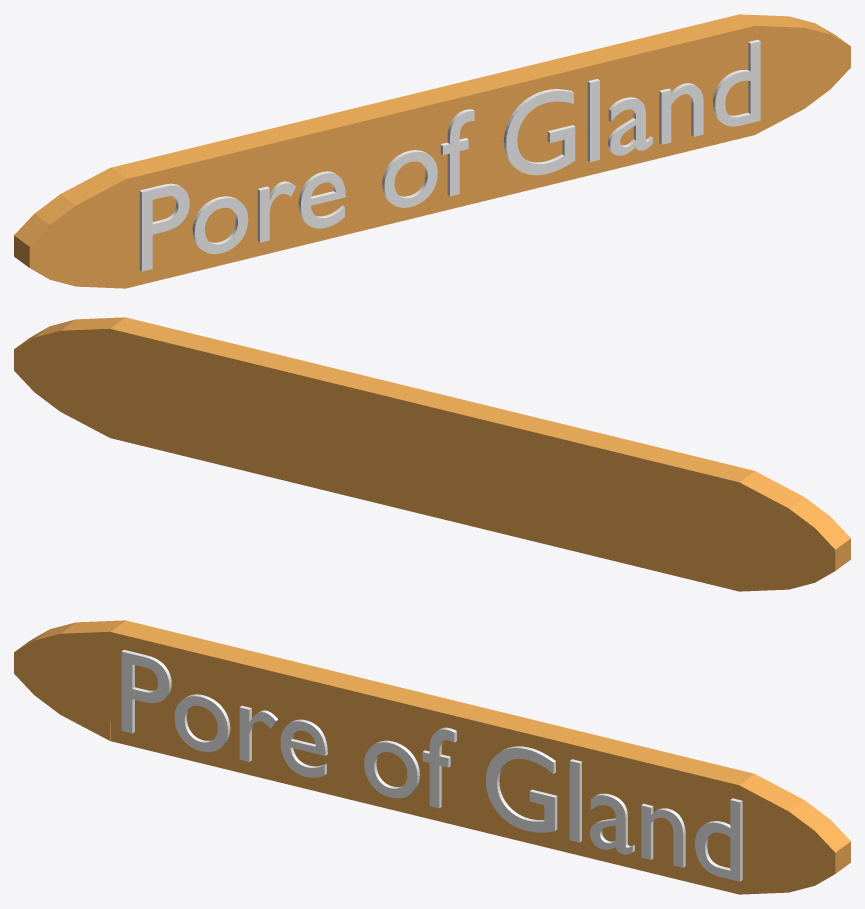
File: txtPoreGland.fbx
3 renders of one model, top to bottom at view 1: azimuth 30°, elevation 25°; view 2: azimuth 150°, elevation 25°; view 3: azimuth 330°, elevation 25°, orthographic.
Parts seen in each view (by area): view 1: TagContainer.028, Text.027; view 2: TagContainer.028; view 3: TagContainer.028, Text.027.
Part boxes in pixels (bbox=[...]): TagContainer.028: bbox=[14, 14, 850, 288]; Text.027: bbox=[139, 39, 760, 271]; TagContainer.028: bbox=[14, 317, 850, 591]; TagContainer.028: bbox=[14, 620, 850, 894]; Text.027: bbox=[121, 650, 742, 881].
Size of the model in its own units: 227 by 28.89 by 8.61.
